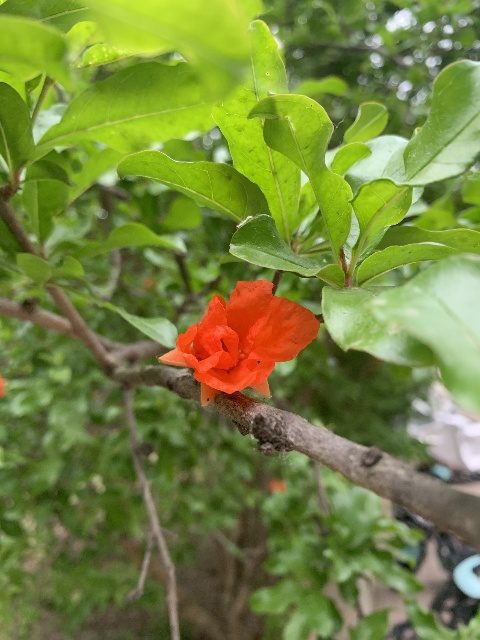flower: (158, 277, 321, 406)
